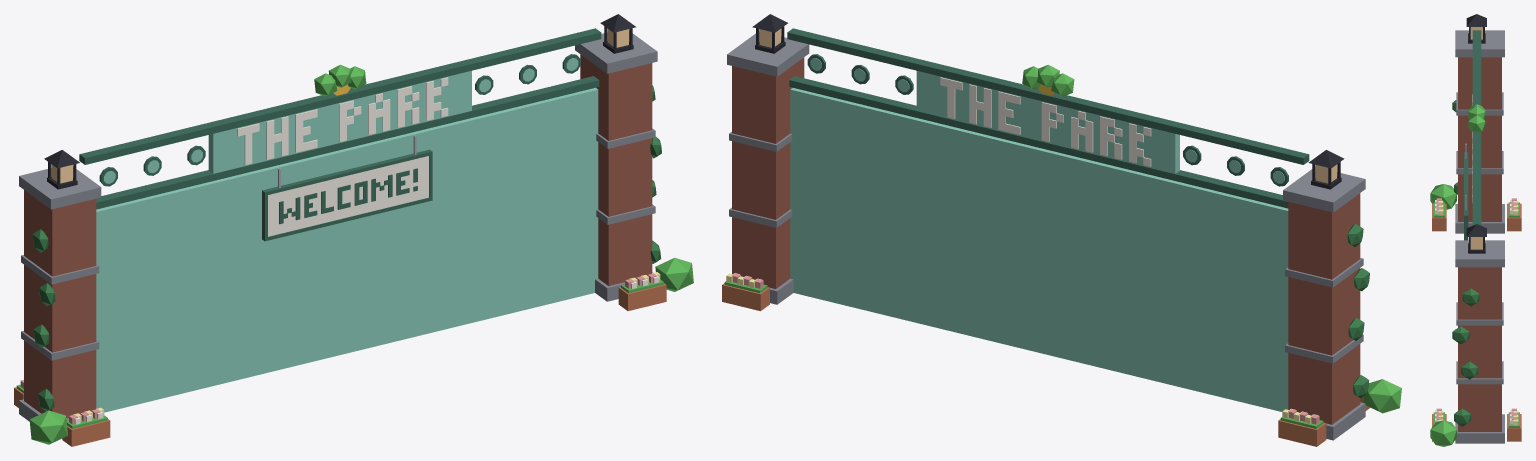
Rendered from CatCafe_Park_Gate.fbx.
3 renders of one model, left to right at view 1: azimuth 30°, elevation 25°; view 2: azimuth 150°, elevation 25°; view 3: azimuth 270°, elevation 25°, orthographic. The views are drawn at different scales.
Visible parts, largest first — view 1: CatCafe_Park_Gate_Bars, CatCafe_Park_Gate, CatCafe_Park_Gate_SignBoard, CatCafe_Park_Gate_Flowers; view 2: CatCafe_Park_Gate_Bars, CatCafe_Park_Gate, CatCafe_Park_Gate_Flowers; view 3: CatCafe_Park_Gate, CatCafe_Park_Gate_Flowers, CatCafe_Park_Gate_Lamp_Bulb.
Part boxes in pixels (x1,y1,x2,y2): CatCafe_Park_Gate_Bars: (96, 87, 598, 412); CatCafe_Park_Gate: (14, 14, 693, 446); CatCafe_Park_Gate_SignBoard: (268, 156, 428, 236); CatCafe_Park_Gate_Flowers: (16, 272, 663, 428); CatCafe_Park_Gate_Bars: (790, 88, 1288, 411); CatCafe_Park_Gate: (722, 14, 1401, 446); CatCafe_Park_Gate_Flowers: (724, 273, 1323, 428); CatCafe_Park_Gate: (1430, 14, 1521, 446); CatCafe_Park_Gate_Flowers: (1433, 198, 1519, 427); CatCafe_Park_Gate_Lamp_Bulb: (1470, 27, 1482, 249).
Size of the model in its own units: 40.95 by 17.1 by 6.32.
Materials: 1 (1 with a texture image).
